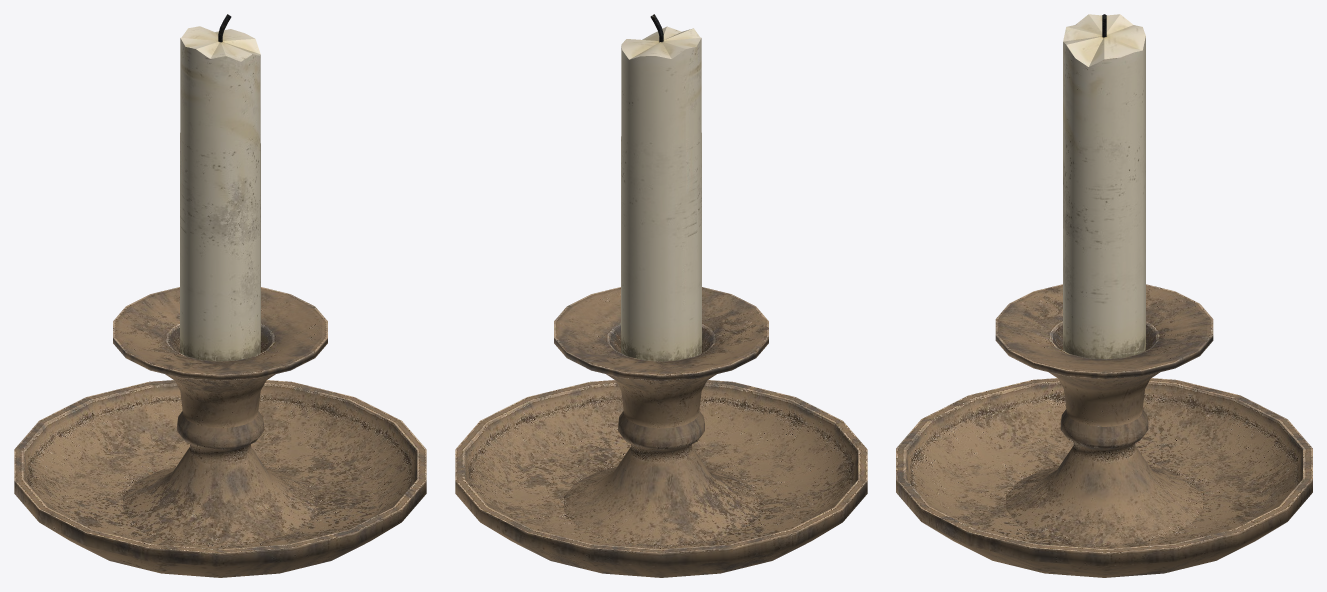
Rendered from candle.fbx.
The picture shows the model from 3 angles, left to right: view 1: azimuth 30°, elevation 25°; view 2: azimuth 150°, elevation 25°; view 3: azimuth 270°, elevation 25°; orthographic projection.
Visible parts, largest first — view 1: pCylinder1.001, pCylinder2.001; view 2: pCylinder1.001, pCylinder2.001; view 3: pCylinder1.001, pCylinder2.001.
Part boxes in pixels (x1=…): pCylinder1.001: x1=14, y1=287, x2=426, y2=577; pCylinder2.001: x1=180, y1=26, x2=260, y2=361; pCylinder1.001: x1=455, y1=287, x2=867, y2=577; pCylinder2.001: x1=621, y1=26, x2=701, y2=361; pCylinder1.001: x1=896, y1=284, x2=1312, y2=577; pCylinder2.001: x1=1063, y1=14, x2=1145, y2=359.
Size of the model in its own units: 154 by 200 by 152.
